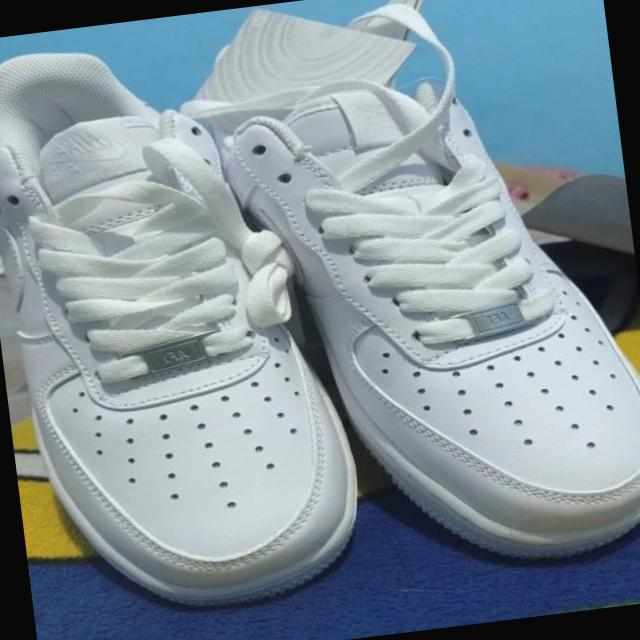nike_original_airforce: (199, 0, 640, 596), (0, 17, 380, 635)
